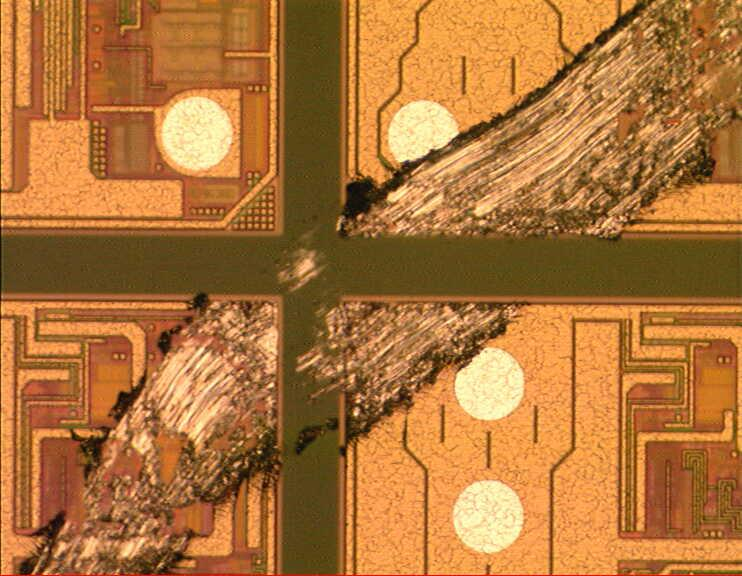SCRATCH: (14, 1, 742, 576)
